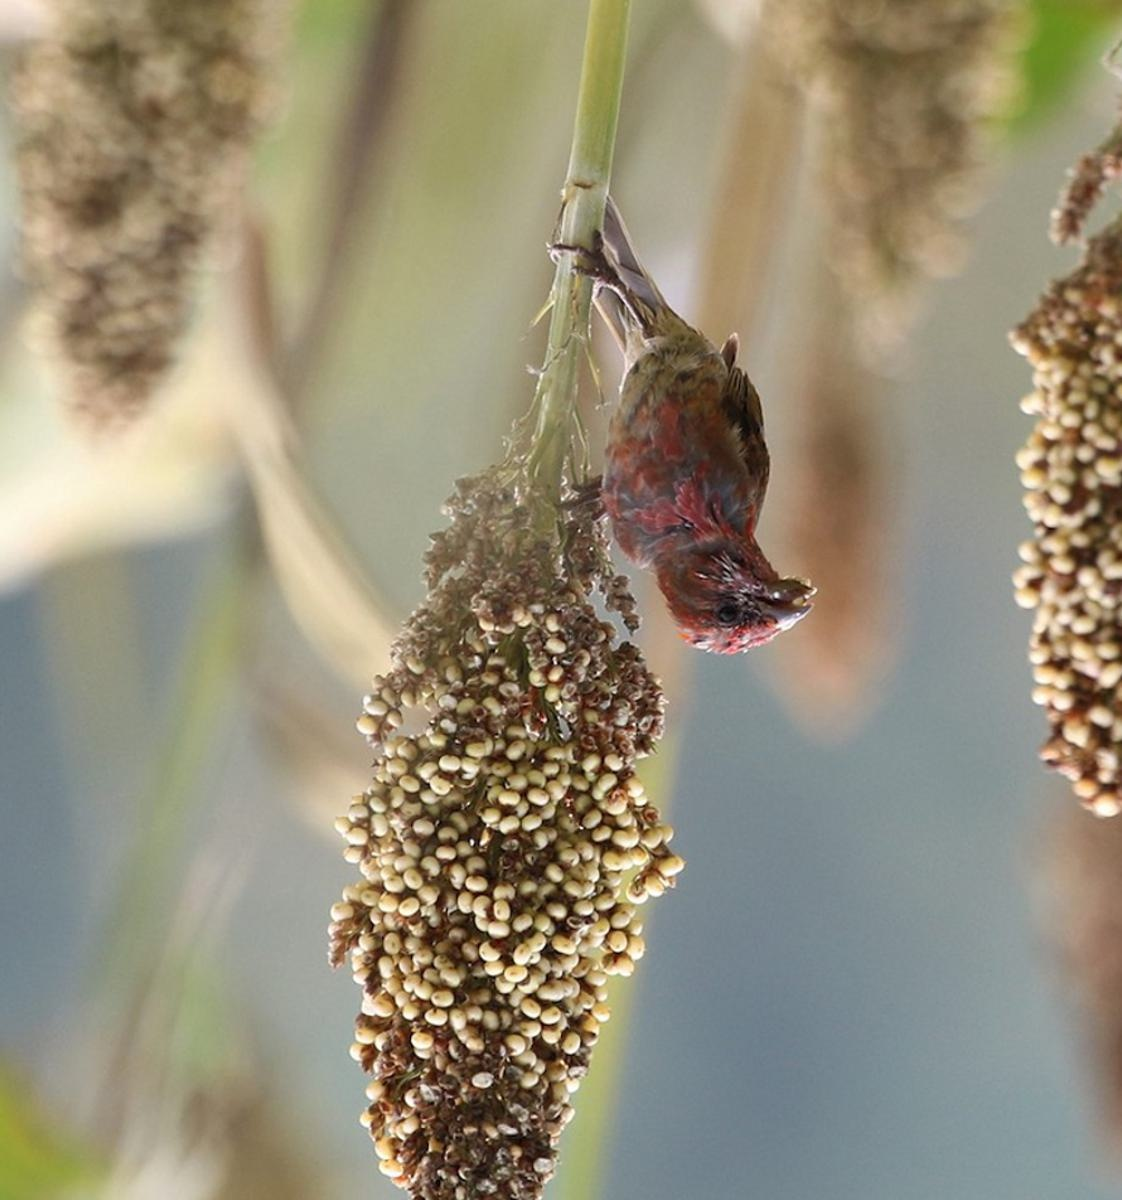rosefinch: (580, 208, 836, 673)
